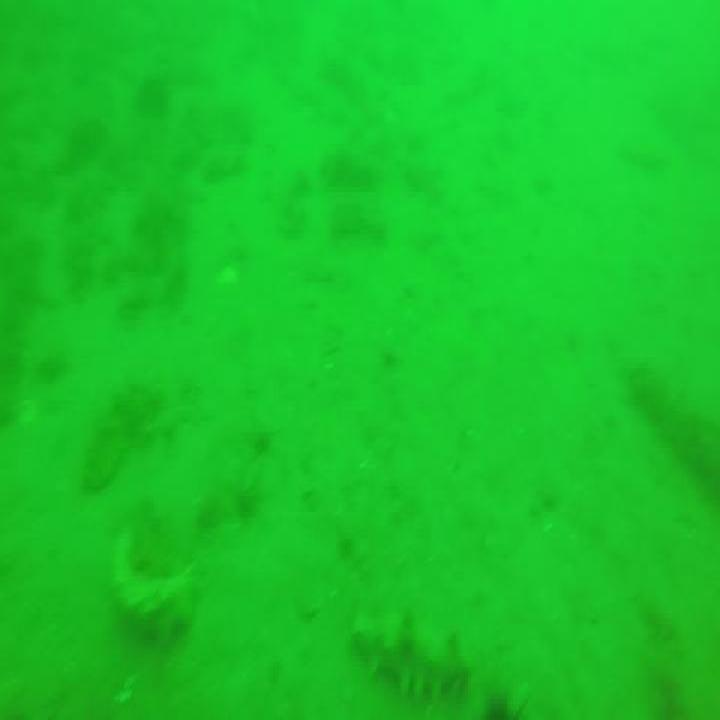holothurian: (357, 610, 468, 720), (629, 359, 720, 487), (102, 528, 193, 636)
